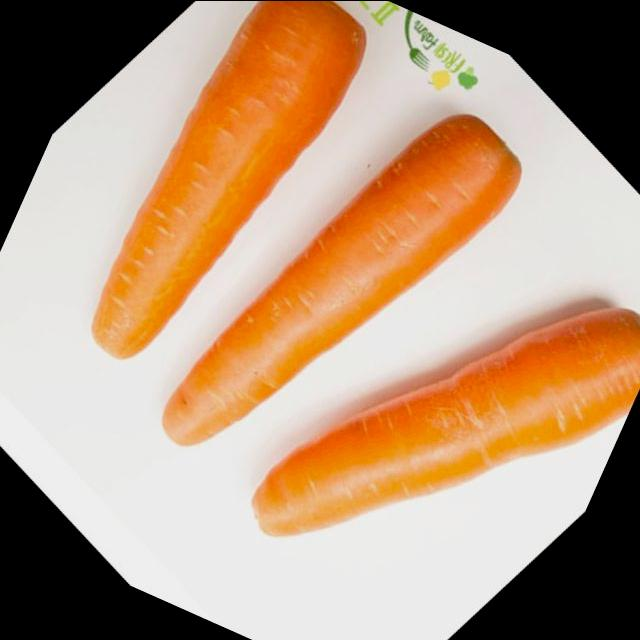carrot: (106, 14, 563, 559), (190, 137, 640, 640), (0, 0, 455, 443)
